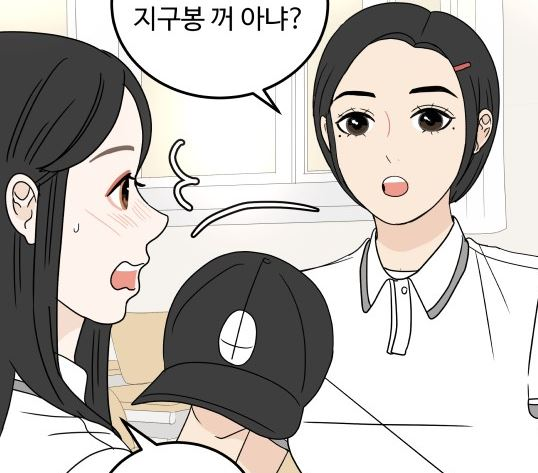hat: (131, 251, 335, 439)
